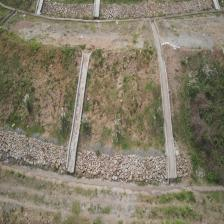rock toe: (75, 150, 166, 183), (1, 130, 69, 172), (100, 0, 214, 18), (42, 1, 93, 18)
slope drain: (150, 18, 178, 182), (66, 51, 91, 174)
